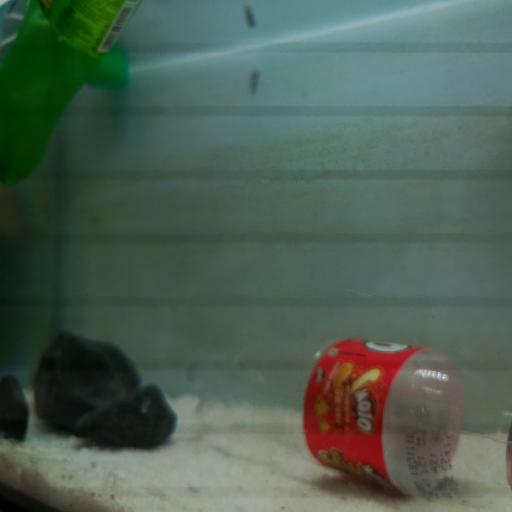plastic_bottle: (186, 328, 512, 494), (3, 0, 142, 180)
plastic_cup: (90, 59, 132, 91)
